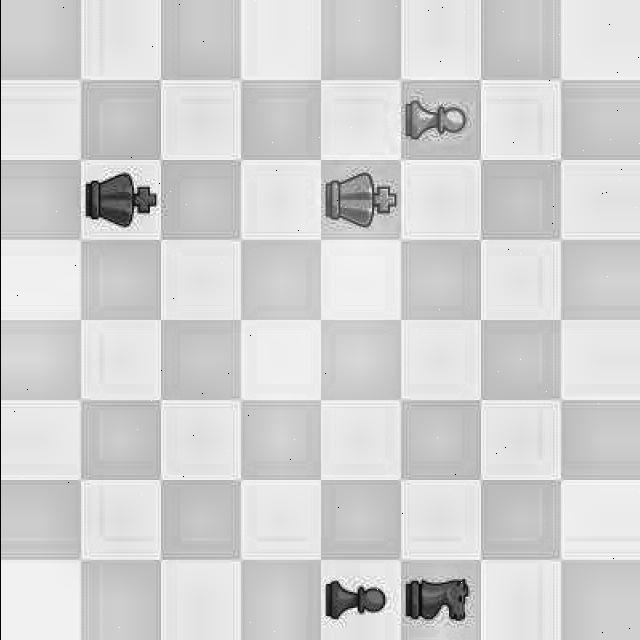Black Knight: (400, 566, 482, 634)
black king: (80, 150, 160, 232)
black pawn: (316, 573, 382, 633)
white king: (322, 163, 399, 235)
white pawn: (409, 82, 475, 152)
